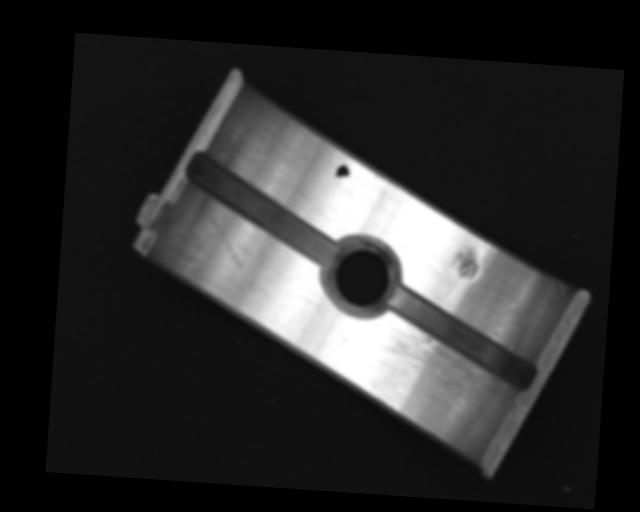blot: (335, 163, 350, 180)
bruise: (450, 248, 480, 280)
gap: (179, 151, 342, 266), (382, 288, 542, 392)
hole: (321, 234, 400, 320)
nick: (200, 211, 275, 301)
scratch: (352, 323, 513, 436)
